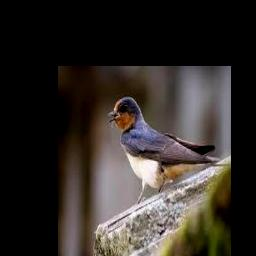Swallow: (107, 98, 220, 204)
